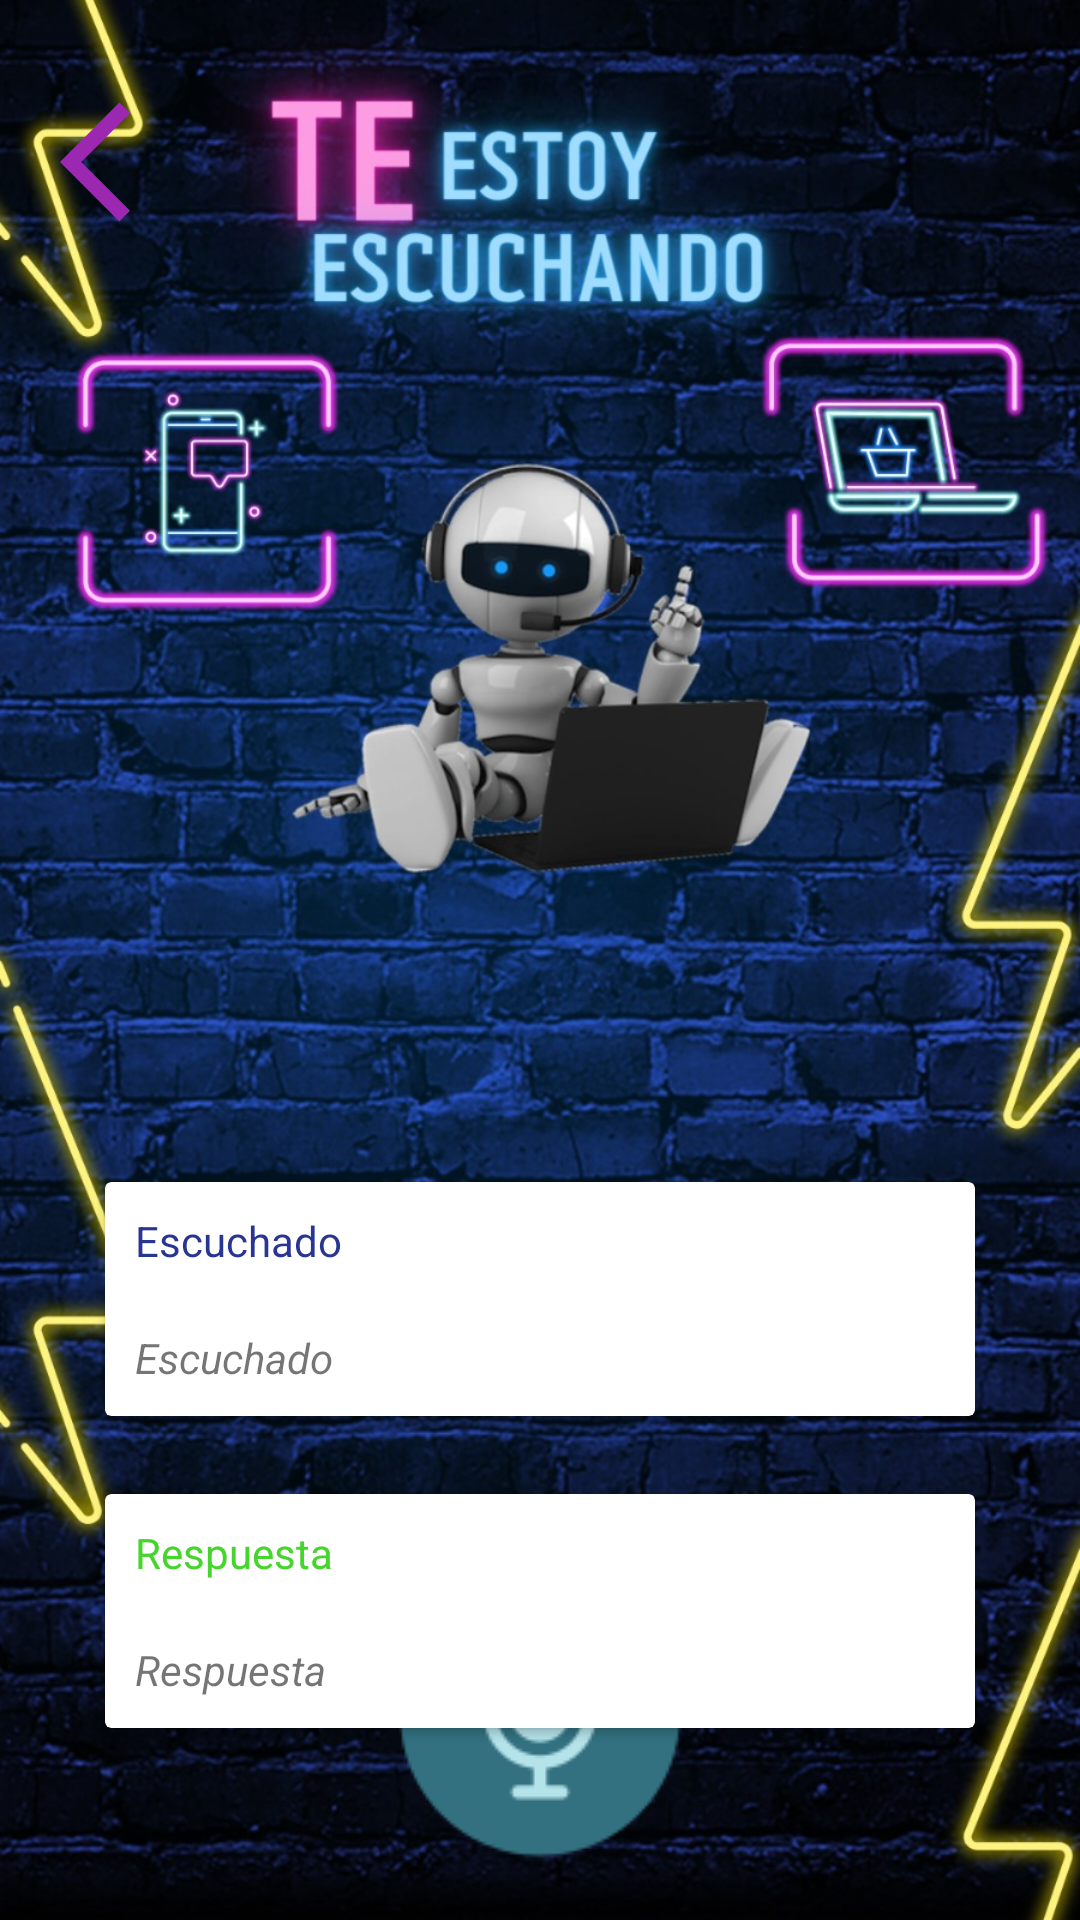

Where to tap for icons on this 1080×1920 app screen, as (x,y):
back: (132,162)
